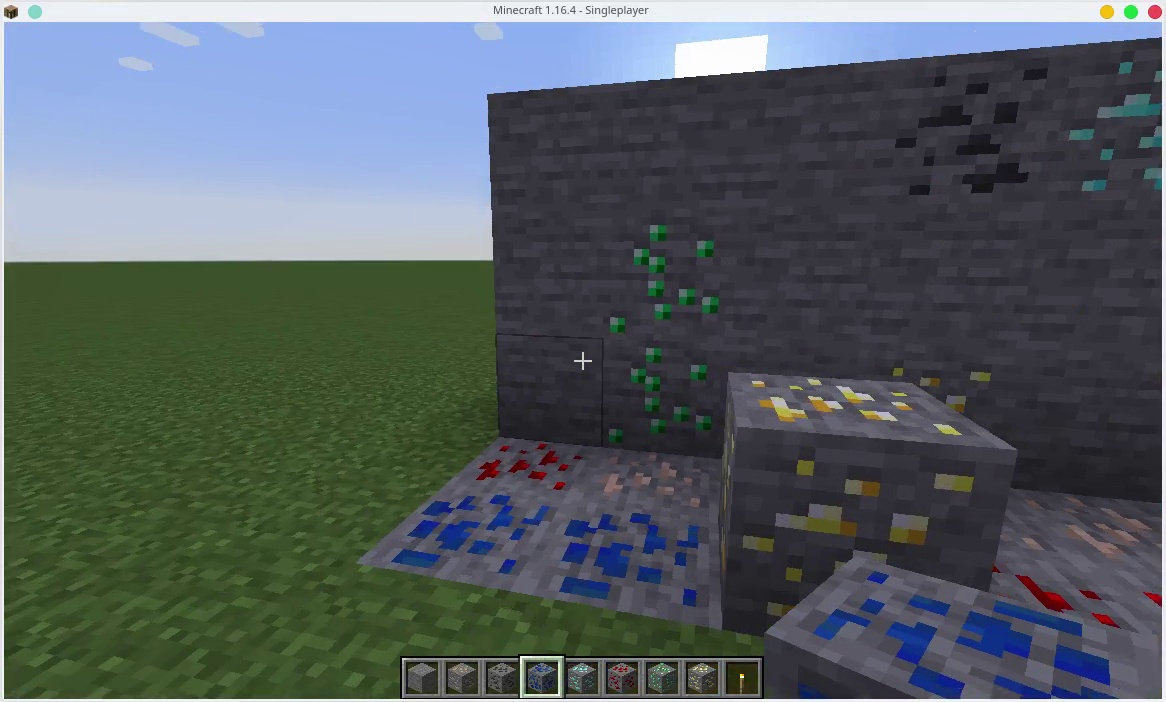gold: (725, 372, 972, 548), (926, 364, 1003, 406)
